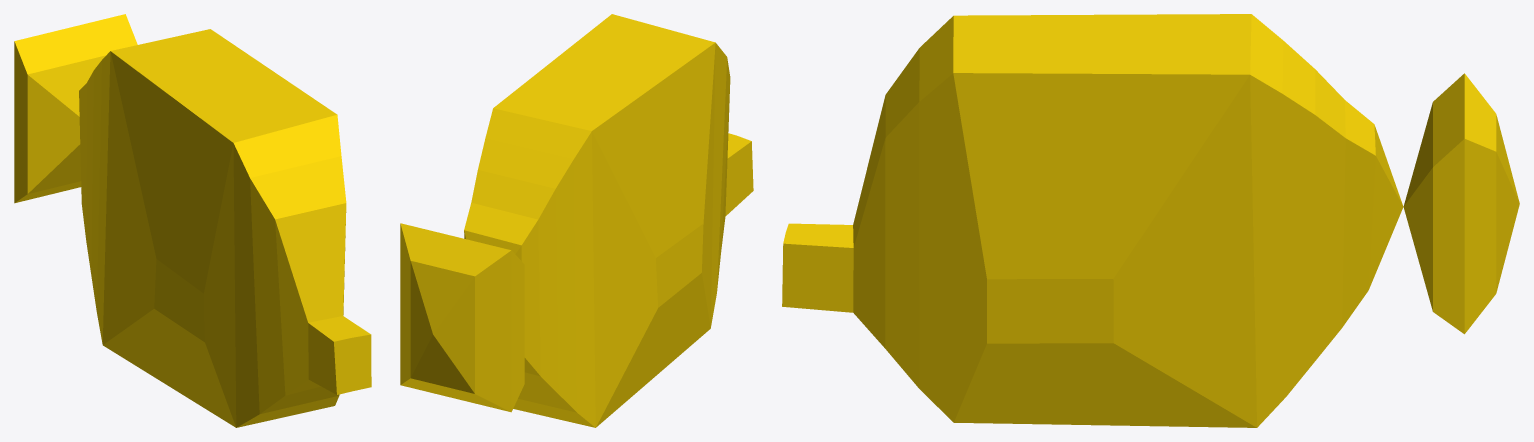
Rendered from fish3.obj.
3 views of the same model, side by side, from view 1: azimuth 30°, elevation 25°; view 2: azimuth 150°, elevation 25°; view 3: azimuth 270°, elevation 25° (orthographic). The views are drawn at different scales.
Visible parts, largest first — view 1: Cube; view 2: Cube; view 3: Cube.
Boxes of the visible parts, x1,y1,x2,y2 form: Cube: (14,14,371,427); Cube: (400,14,753,427); Cube: (782,14,1519,427).
Bounding box in the file's own units: 0.648 × 1.49 × 2.78.
